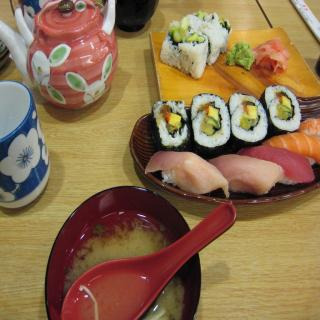Sushi: (145, 85, 320, 197), (160, 22, 208, 78), (148, 97, 192, 154), (186, 12, 228, 68)
